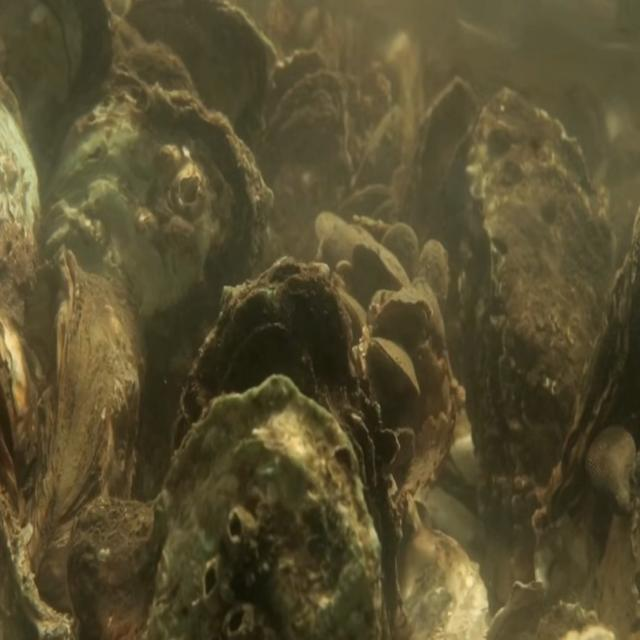Oyster-Closed: (44, 80, 273, 484), (171, 254, 402, 640), (456, 84, 614, 526), (145, 373, 384, 640), (528, 195, 640, 591), (369, 335, 419, 398), (374, 289, 432, 337)
Oyster-Indeterminate: (28, 242, 142, 640), (400, 73, 480, 304), (351, 238, 411, 292), (380, 221, 419, 292), (416, 238, 449, 314)
Oyster-Open: (254, 47, 351, 259)
